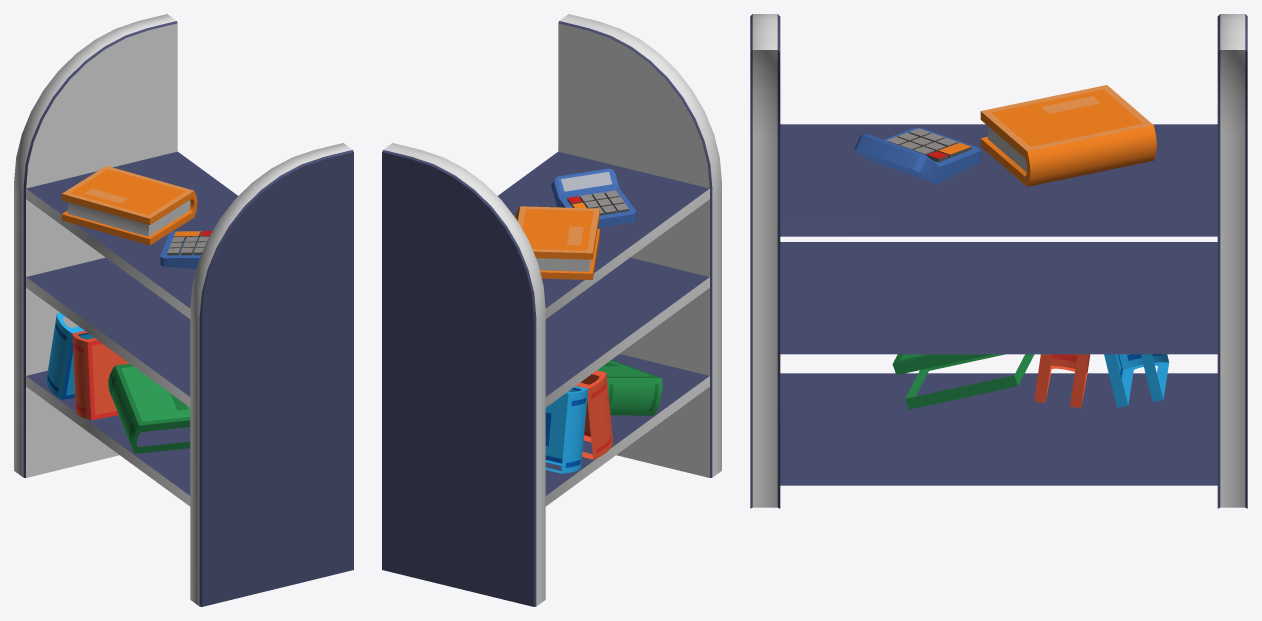
The model's file is Book Shelf LEVEL-3-2.fbx.
The picture shows the model from 3 angles, left to right: view 1: azimuth 30°, elevation 25°; view 2: azimuth 150°, elevation 25°; view 3: azimuth 270°, elevation 25°; orthographic projection. The views are drawn at different scales.
Visible parts, largest first — view 1: Book Shelf LEVEL-3-2; view 2: Book Shelf LEVEL-3-2; view 3: Book Shelf LEVEL-3-2.
Part boxes in pixels (bbox=[...]): Book Shelf LEVEL-3-2: bbox=[14, 14, 353, 606]; Book Shelf LEVEL-3-2: bbox=[382, 14, 721, 606]; Book Shelf LEVEL-3-2: bbox=[750, 14, 1247, 508].
Bounding box in the file's own units: 4.78 × 12.16 × 9.84.
